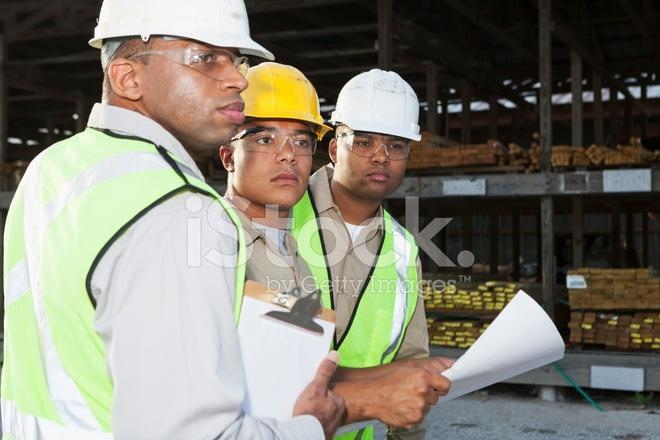helmet: (328, 68, 423, 153)
person: (321, 64, 454, 440)
